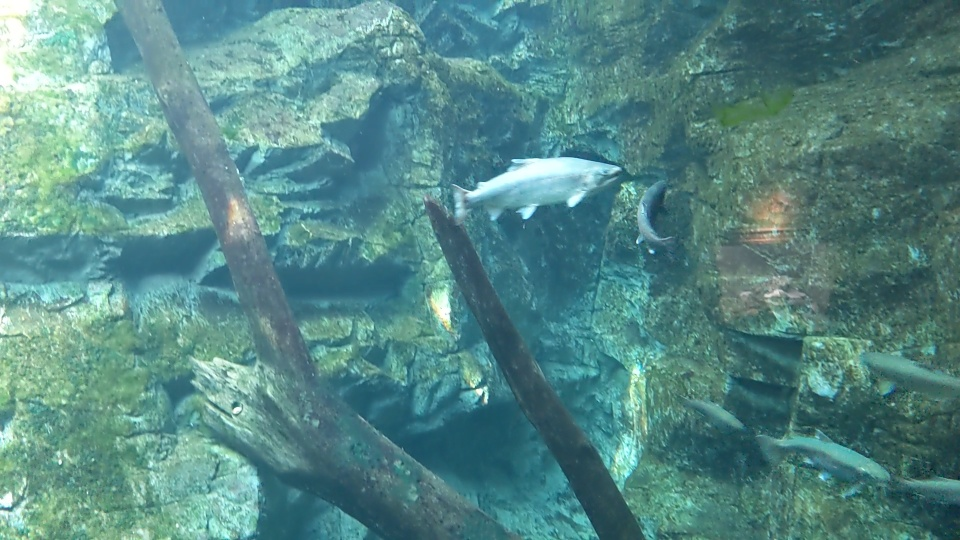Fish: (448, 154, 627, 226), (756, 423, 883, 495), (861, 346, 960, 404), (632, 172, 673, 259), (679, 387, 747, 433), (898, 465, 960, 514)
